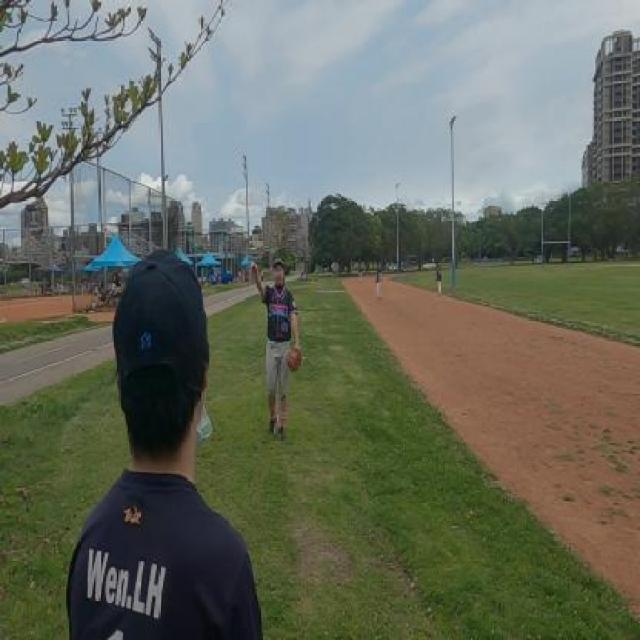baseball: (244, 234, 248, 243)
